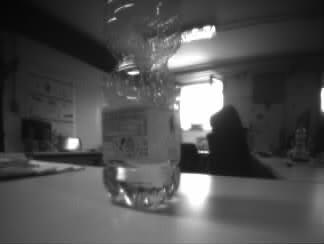Bottle: (103, 1, 180, 209)
